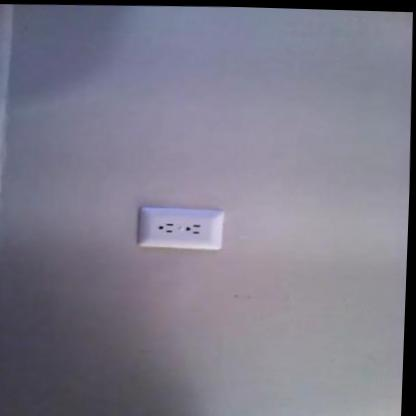OUTLET: (138, 205, 223, 252)
